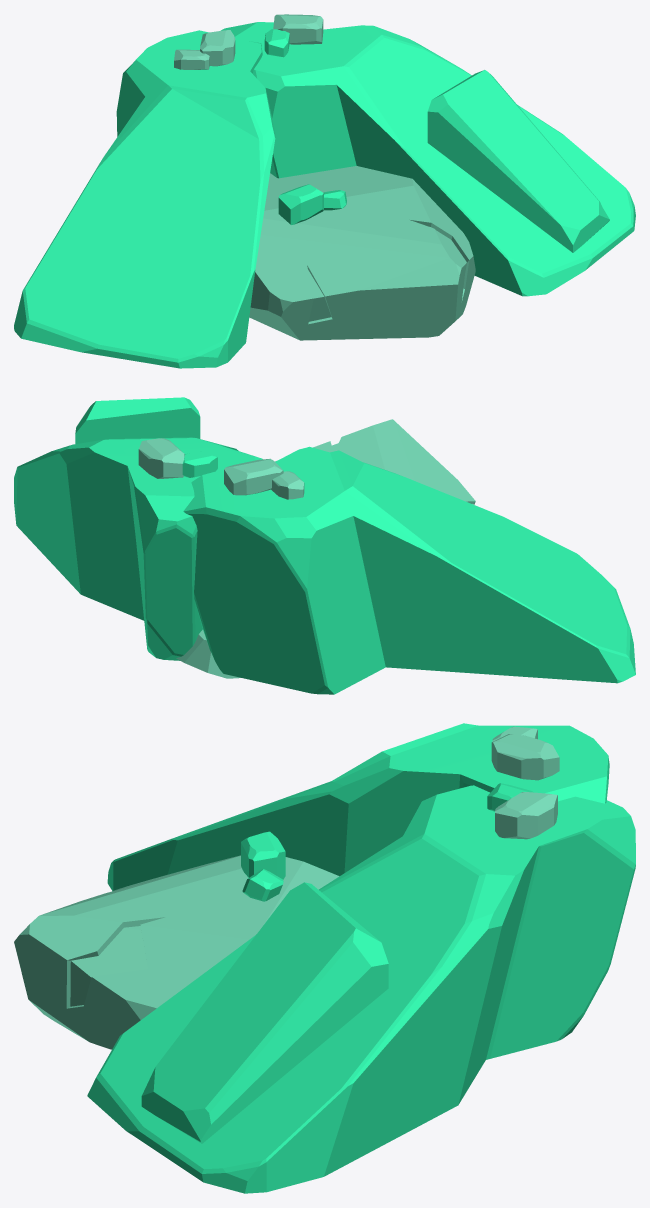
The model's file is Rock2.fbx.
3 renders of one model, top to bottom at view 1: azimuth 30°, elevation 25°; view 2: azimuth 150°, elevation 25°; view 3: azimuth 270°, elevation 25°, orthographic. The views are drawn at different scales.
Visible parts, largest first — view 1: stone34; view 2: stone34; view 3: stone34.
Boxes of the visible parts, box(x1,y1,x2,y2) form: stone34: box(14, 14, 635, 368); stone34: box(14, 397, 635, 694); stone34: box(14, 723, 635, 1193).
Size of the model in its own units: 1103 by 331 by 748.
